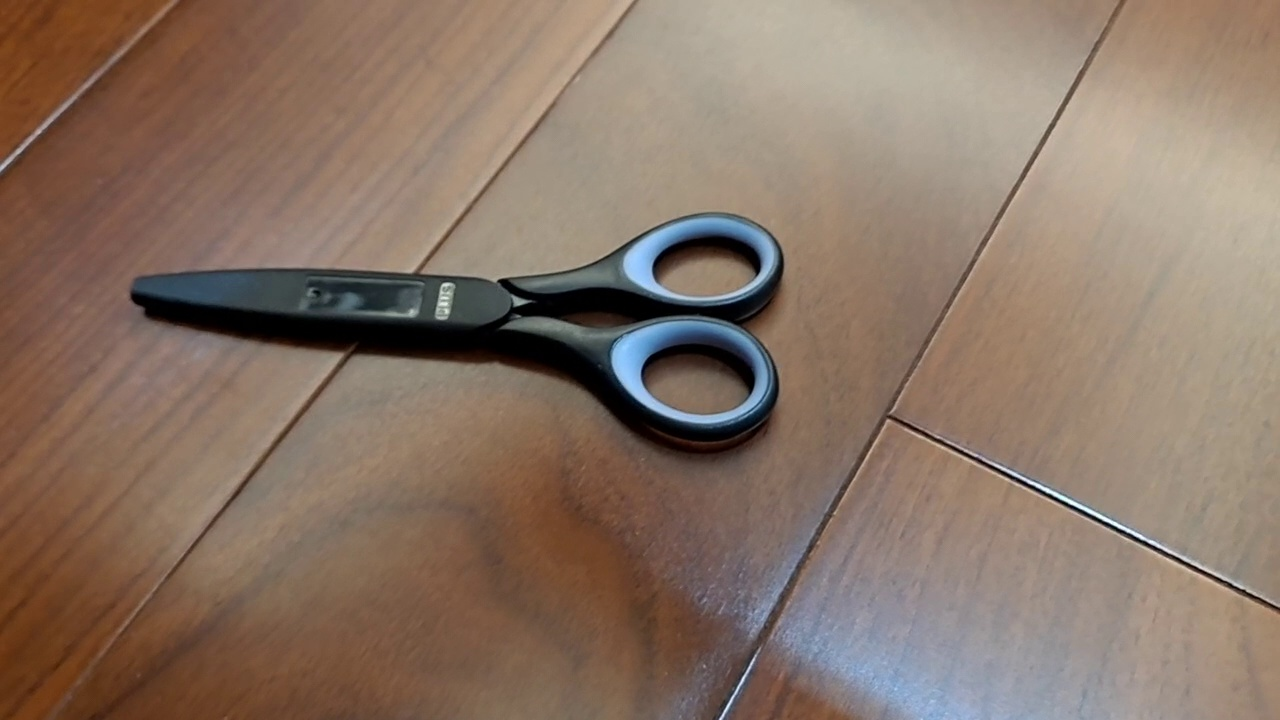scissors: (128, 211, 785, 444)
